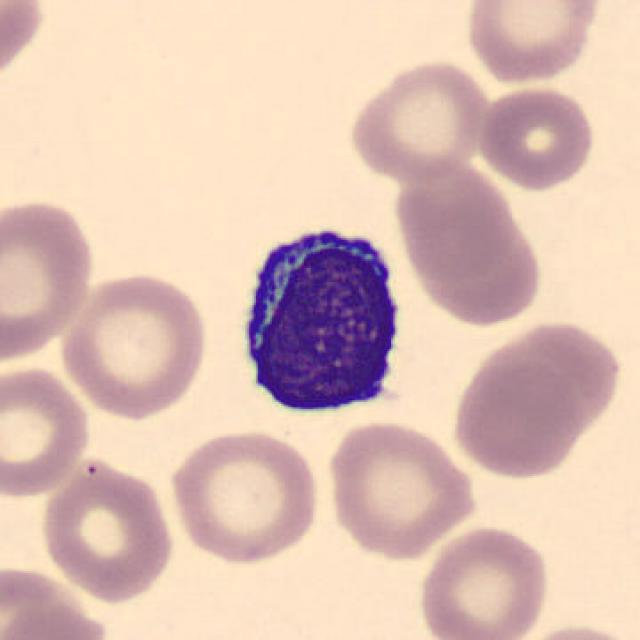Lymphocyte: (226, 211, 414, 425)
RBC: (391, 154, 542, 327), (57, 268, 211, 421), (322, 416, 480, 561), (165, 425, 324, 566), (37, 456, 178, 604), (448, 342, 587, 483), (474, 316, 628, 440), (345, 57, 492, 185), (0, 194, 98, 365), (414, 523, 552, 640), (475, 83, 597, 192), (0, 361, 92, 500), (462, 0, 602, 86), (0, 564, 112, 640), (0, 0, 50, 88), (504, 620, 636, 640)
